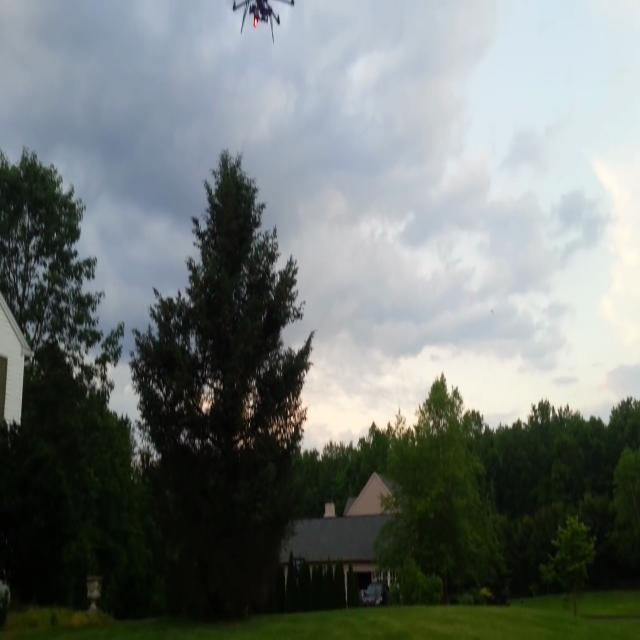drone: (217, 0, 306, 51)
